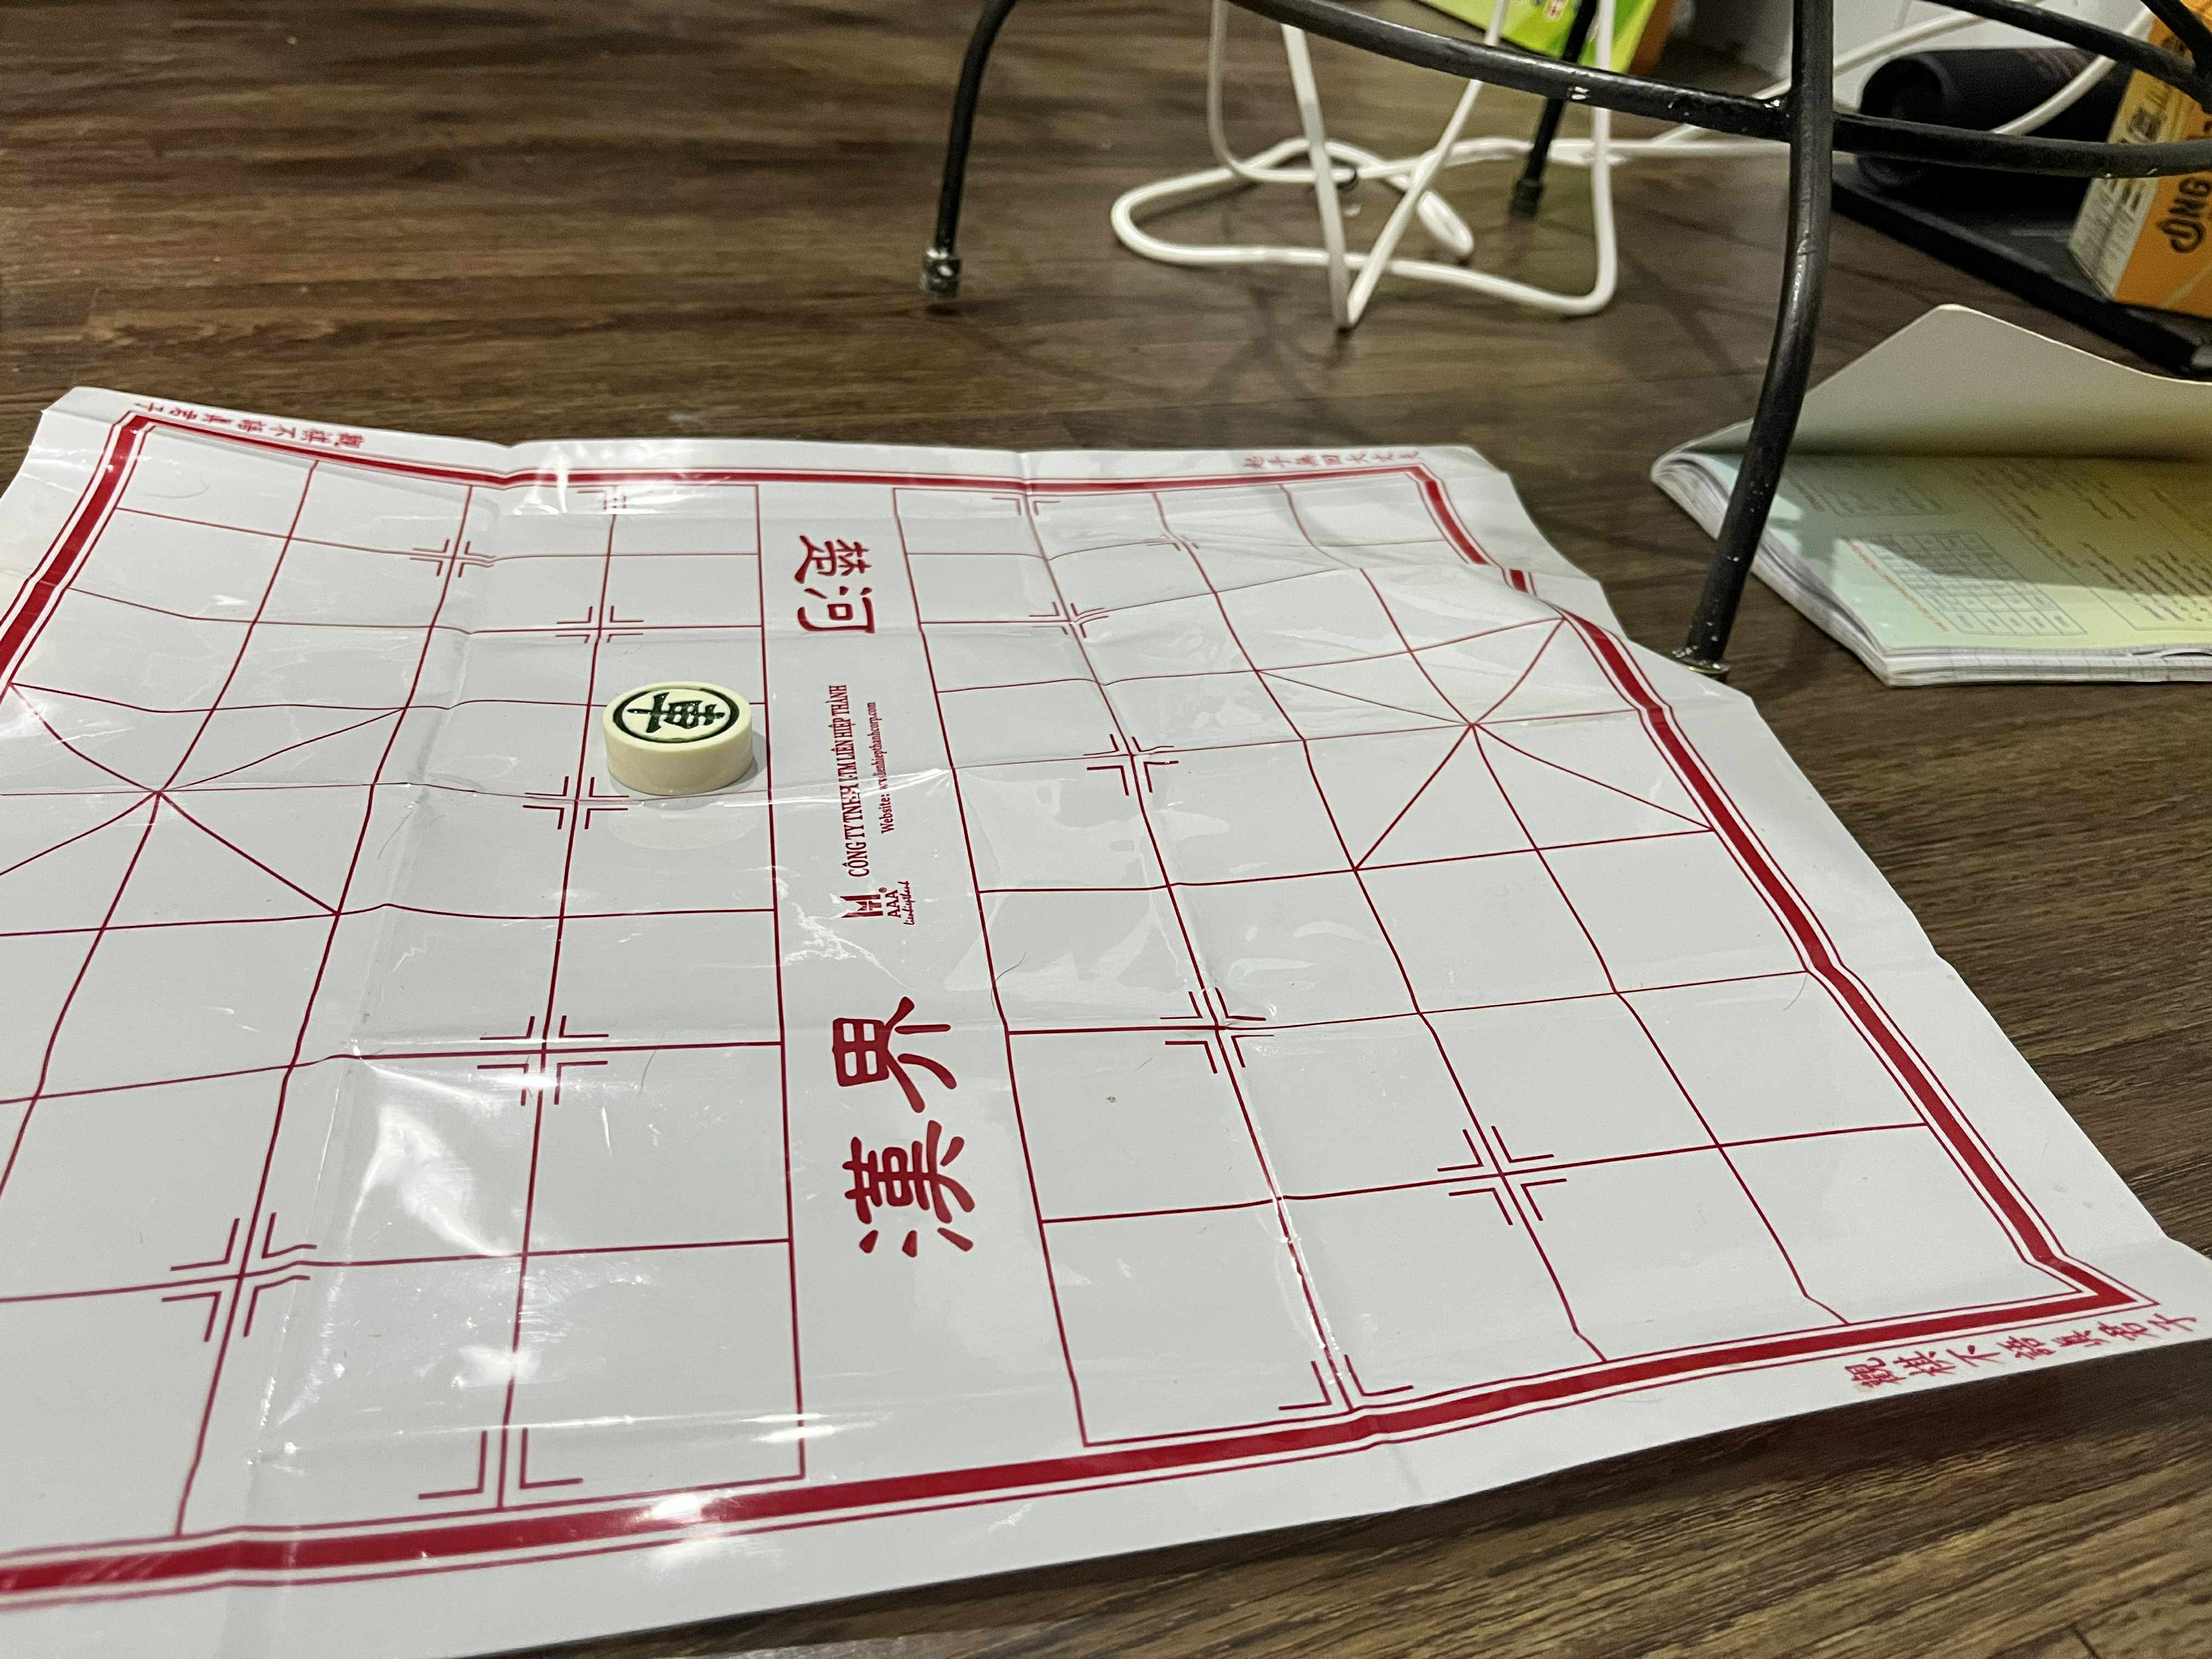black-chariot: (601, 678, 755, 761)
